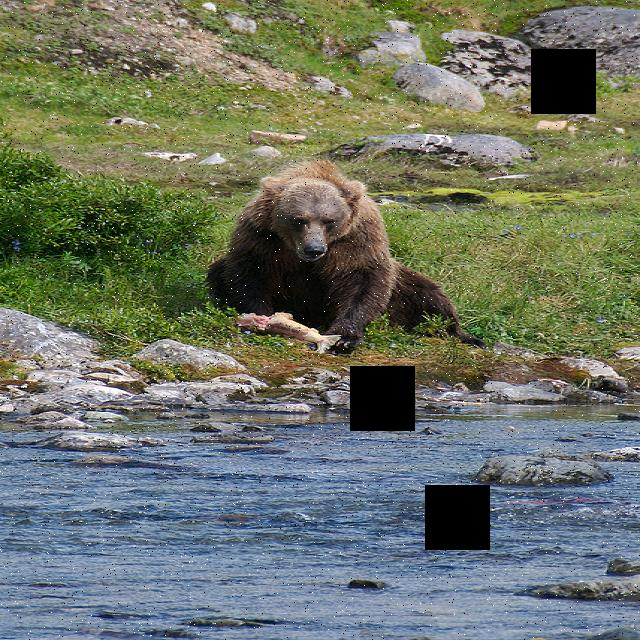Bear: (205, 146, 474, 346)
